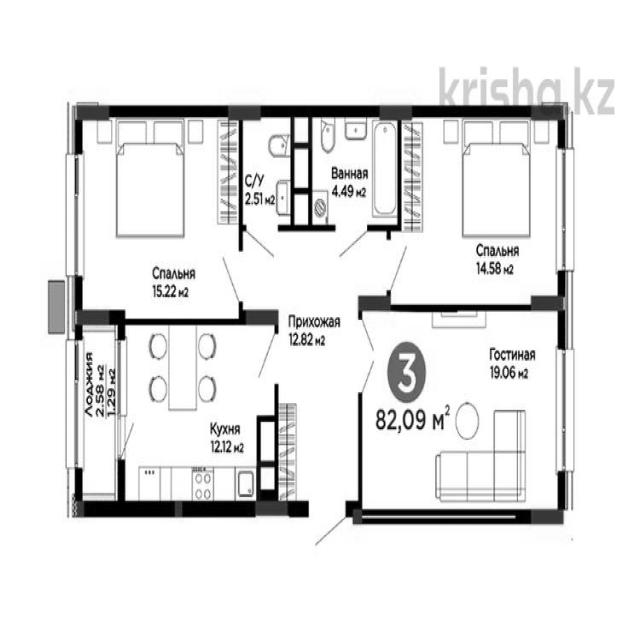balcony: (79, 321, 121, 505)
bathroom: (312, 110, 398, 228), (242, 114, 293, 226)
hallway: (275, 230, 359, 511)
kitchen: (121, 319, 275, 507)
living_room: (362, 311, 560, 513), (82, 116, 240, 320), (398, 108, 560, 301)
